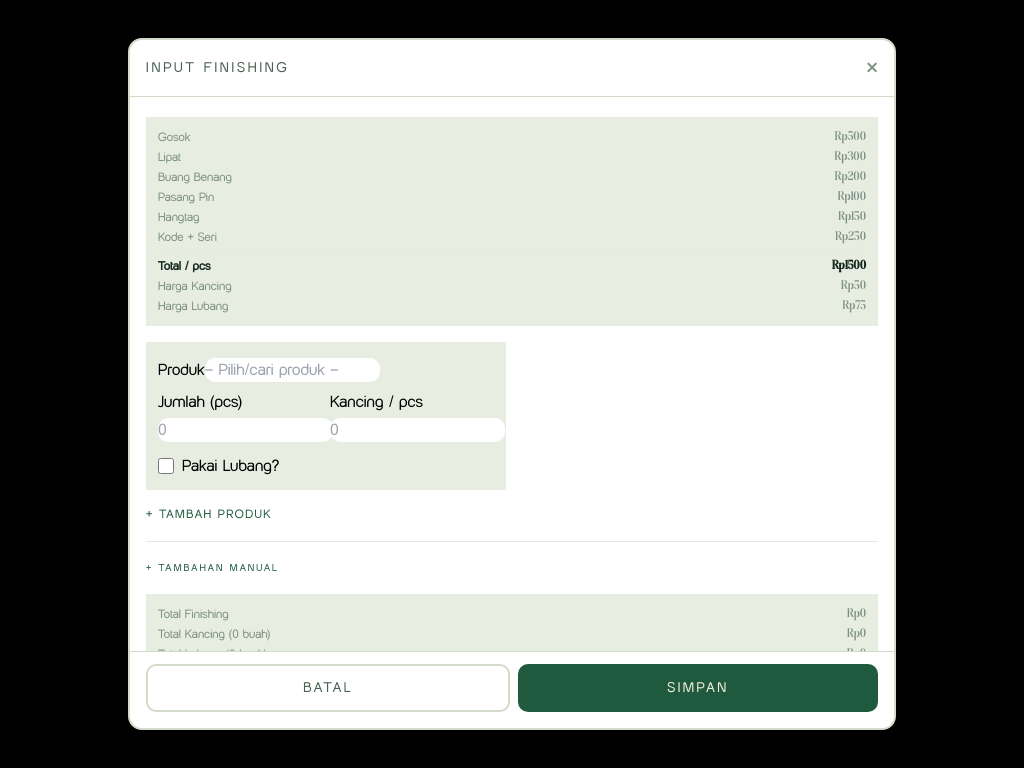
FinishingForm — acuan Produksi & HPP saat pilih produk › acuan HPP disembunyikan kalau kode belum punya Template HPP (beda dari HPP kancing_qty=0)
Type "D-99-XXX" into the field with test id "produk-input-0". click: [292, 370]
box: [205,358,380,382]
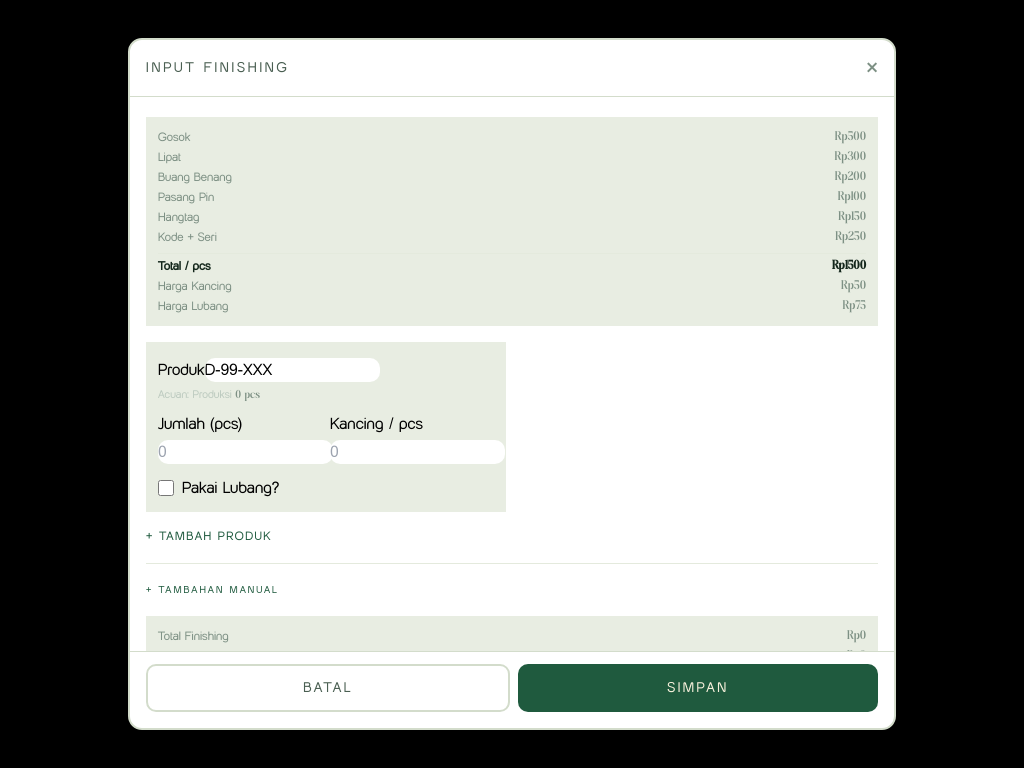
Expected: the text "Acuan: Produksi 0 pcs" is shown, [158,387,260,401]
Expected: the text "0 pcs" is shown, [235,389,260,401]
